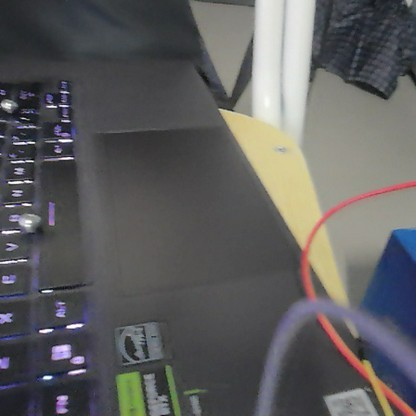ironball: (15, 206, 44, 237), (0, 94, 19, 115)
